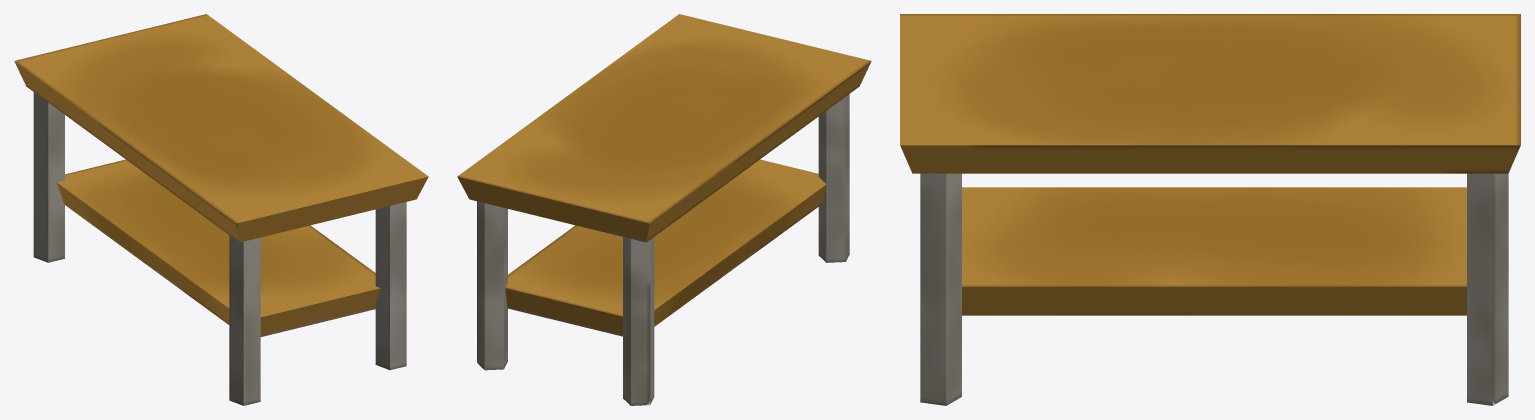
The model's file is table3.fbx.
3 renders of one model, left to right at view 1: azimuth 30°, elevation 25°; view 2: azimuth 150°, elevation 25°; view 3: azimuth 270°, elevation 25°, orthographic. The views are drawn at different scales.
Parts seen in each view (by area): view 1: cuboid_1, cuboid, cylinder_2, cylinder_1, cylinder_3; view 2: cuboid_1, cuboid, cylinder_3, cylinder, cylinder_2; view 3: cuboid_1, cuboid, cylinder_1, cylinder.
Part boxes in pixels (x1,y1,x2,y2): cuboid_1: (14,14,428,242); cuboid: (56,159,380,336); cylinder_2: (229,222,260,405); cylinder_1: (375,202,406,370); cylinder_3: (33,92,64,262); cuboid_1: (457,14,871,242); cuboid: (505,159,826,336); cylinder_3: (623,222,654,405); cylinder: (477,201,507,370); cylinder_2: (818,94,849,262); cuboid_1: (900,14,1520,173); cuboid: (962,187,1466,315); cylinder_1: (920,173,961,405); cylinder: (1467,173,1508,405).
Bounding box in the file's own units: 156 × 148 × 312.
1 material, 1 textured.
